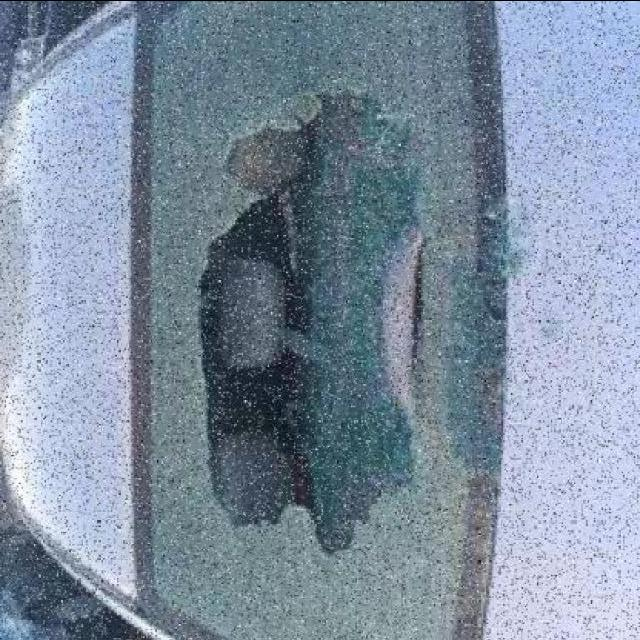Rear-windscreen-Damage: (111, 3, 555, 640)
